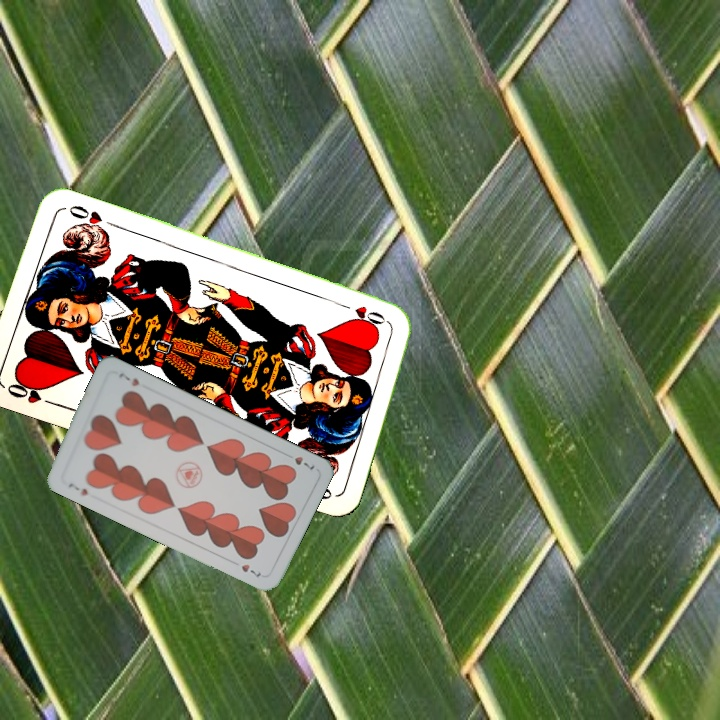H7: (280, 449, 317, 472), (64, 479, 90, 498)
HO: (3, 374, 59, 409), (335, 299, 393, 328)
